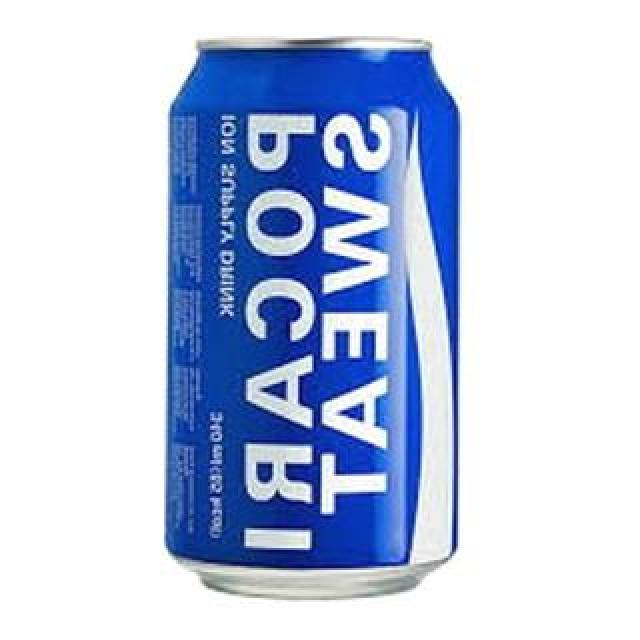Can: (146, 38, 468, 594)
